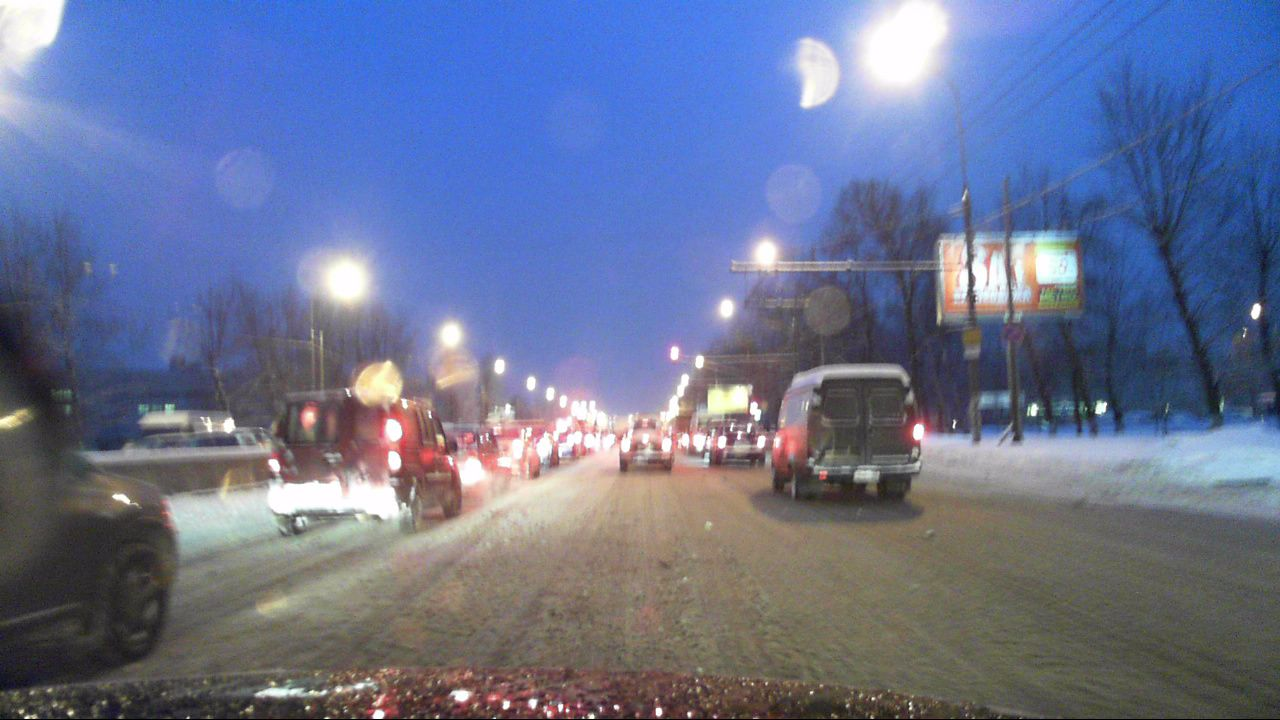No Parking: (998, 320, 1025, 347)
